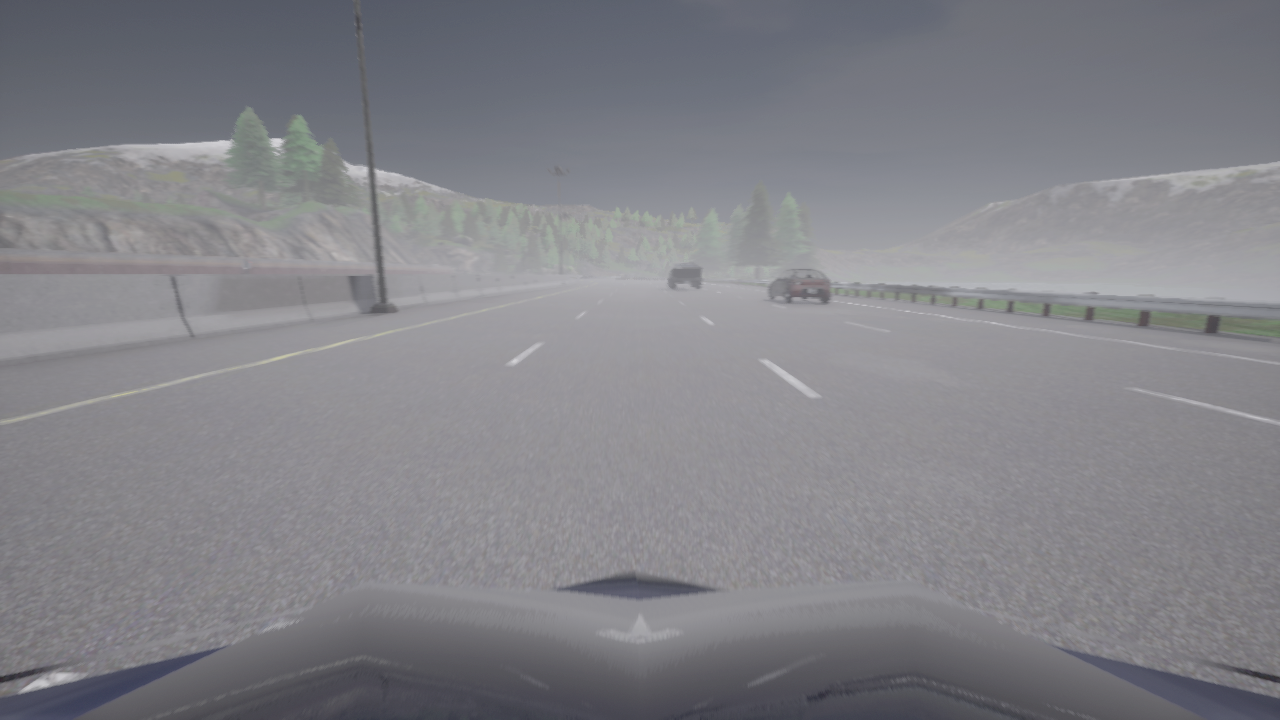cyclist: (0, 569, 1279, 719), (767, 268, 830, 302), (666, 263, 701, 289)
